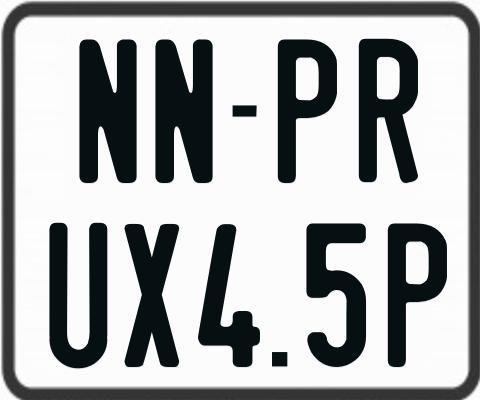4: (198, 223, 263, 372)
5: (305, 224, 368, 372)
N: (152, 37, 216, 186), (76, 40, 136, 185)
P: (388, 222, 451, 365), (278, 39, 337, 188)
R: (357, 38, 418, 182)
U: (48, 223, 108, 374)
X: (123, 222, 178, 368)
